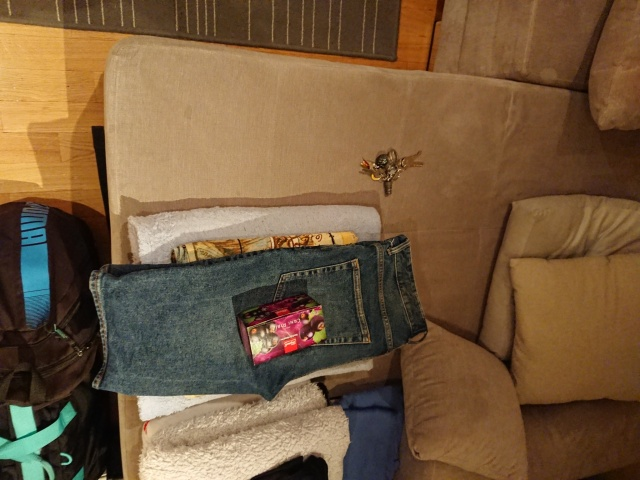Franck Black Currant Tea 60g: (233, 291, 329, 369)
